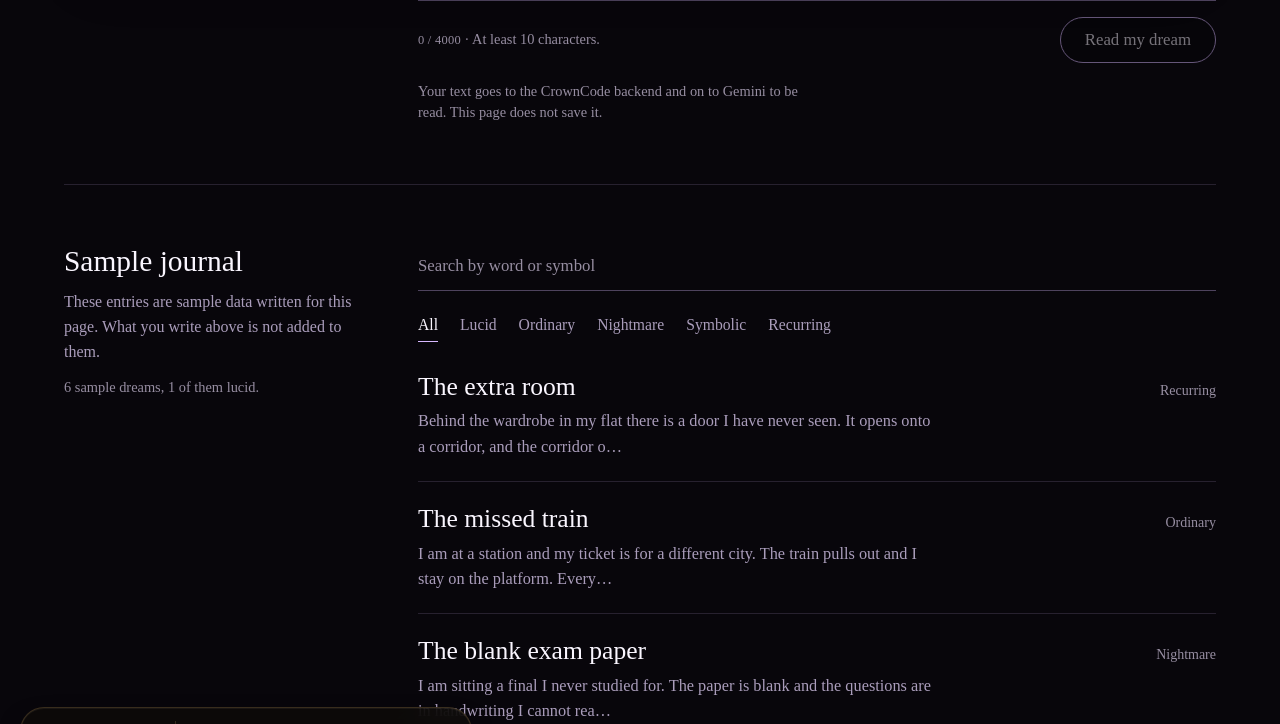
Test: Crown Dreams page › sample journal › filters by kind
The width and height of the screenshot is (1280, 724).
(page scrolled)
What coordinates should you click on to do the following:
click the button "Lucid"
I would click on:
 (478, 325)
Its box is [460,309,497,342].
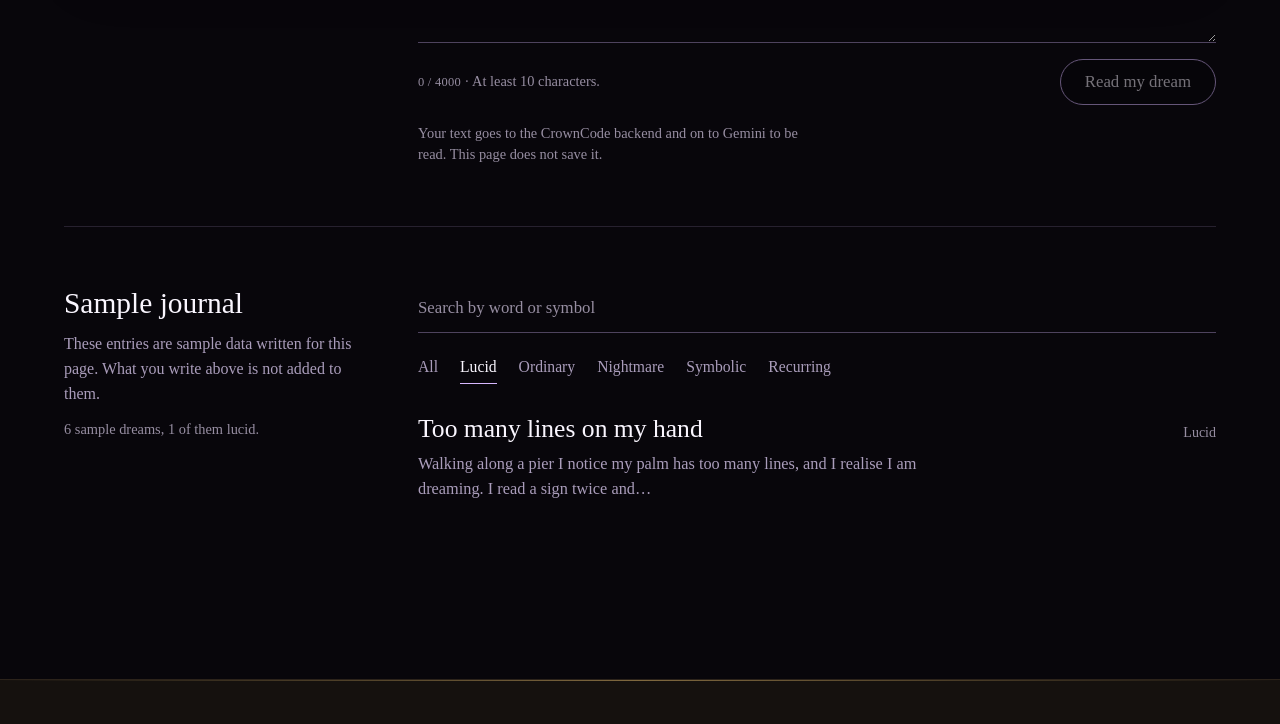
expect the button "Too many lines on my hand Lucid" is shown: met, box [418,392,1216,450]
expect the button "The extra room" is gone: met
